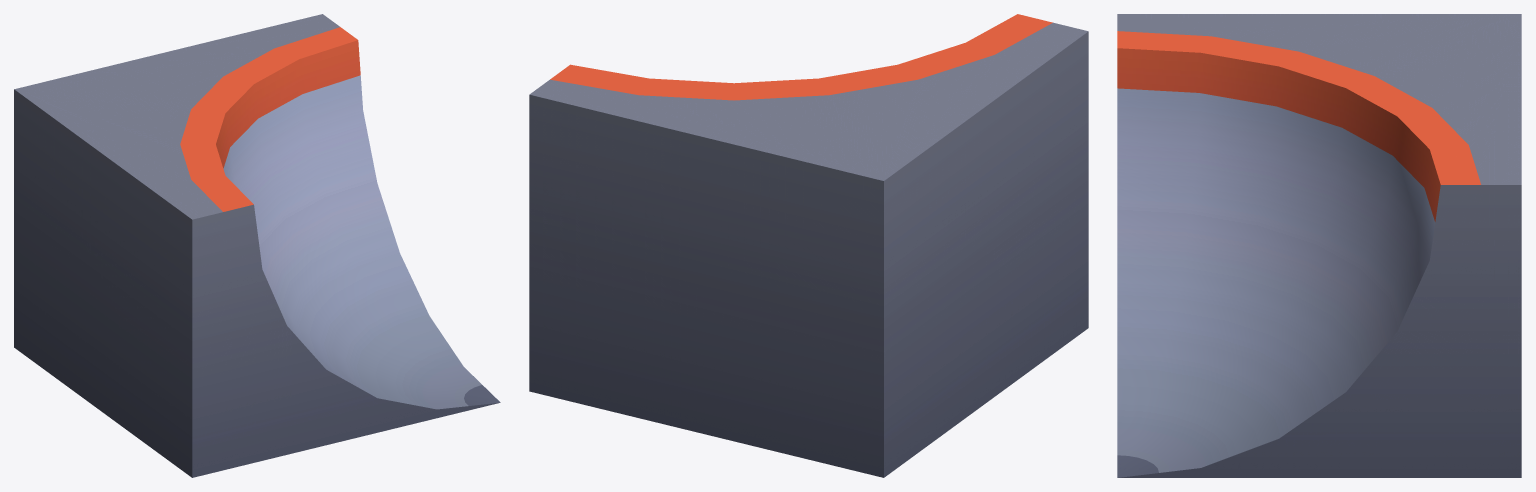
Rendered from bowl-corner-inner-transformed.glb.
3 views of the same model, side by side, from view 1: azimuth 30°, elevation 25°; view 2: azimuth 150°, elevation 25°; view 3: azimuth 270°, elevation 25° (orthographic). The views are drawn at different scales.
Parts seen in each view (by area): view 1: bowl-corner-inner; view 2: bowl-corner-inner; view 3: bowl-corner-inner.
Part boxes in pixels (x1,y1,x2,y2): bowl-corner-inner: (14, 14, 500, 477); bowl-corner-inner: (529, 14, 1088, 477); bowl-corner-inner: (1117, 14, 1521, 477).
Size of the model in its own units: 1 by 0.8 by 1.
1 material, 1 textured.
